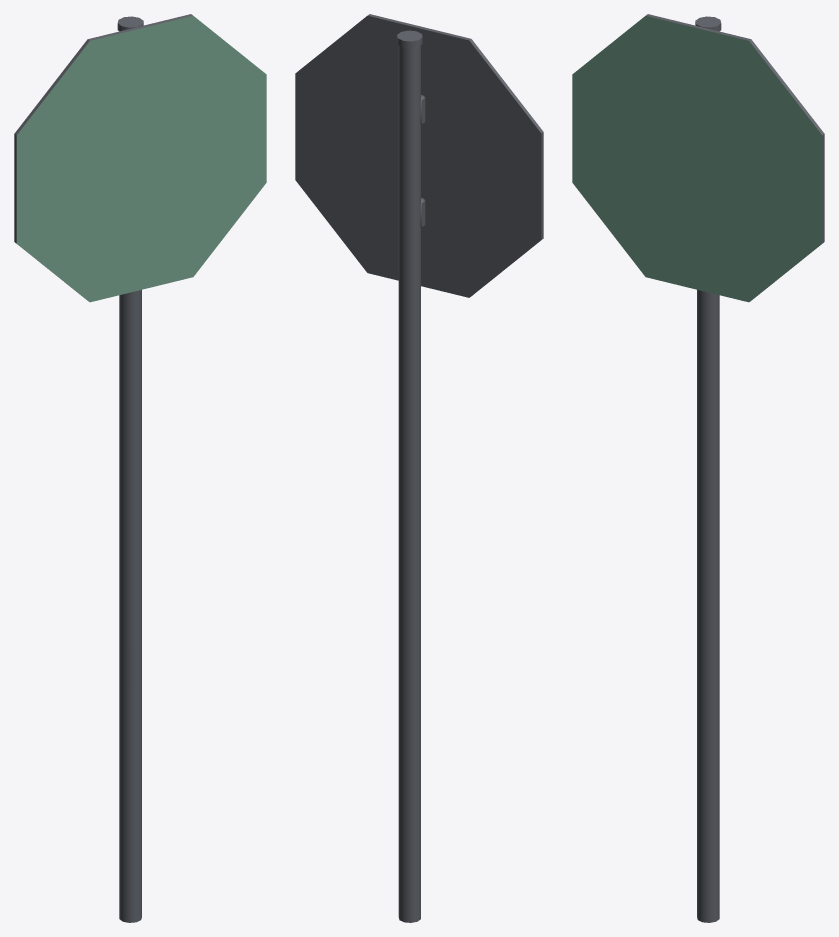
Rendered from StopSign.fbx.
The picture shows the model from 3 angles, left to right: view 1: azimuth 30°, elevation 25°; view 2: azimuth 150°, elevation 25°; view 3: azimuth 330°, elevation 25°; orthographic projection.
Visible parts, largest first — view 1: StopSign; view 2: StopSign; view 3: StopSign.
Part boxes in pixels (x1=…): StopSign: x1=14, y1=14, x2=266, y2=922; StopSign: x1=295, y1=14, x2=543, y2=922; StopSign: x1=572, y1=14, x2=824, y2=922.
Bounding box in the file's own units: 0.75 × 2.58 × 0.0915.
